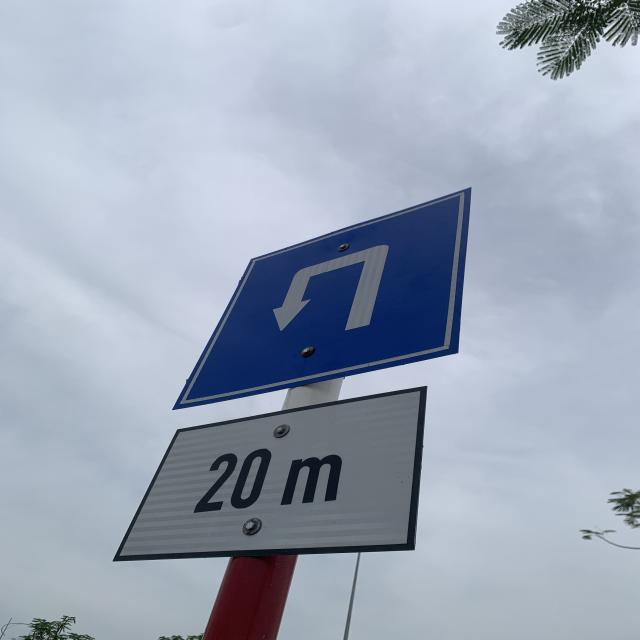Den_Giao_Thong: (174, 188, 467, 401)
